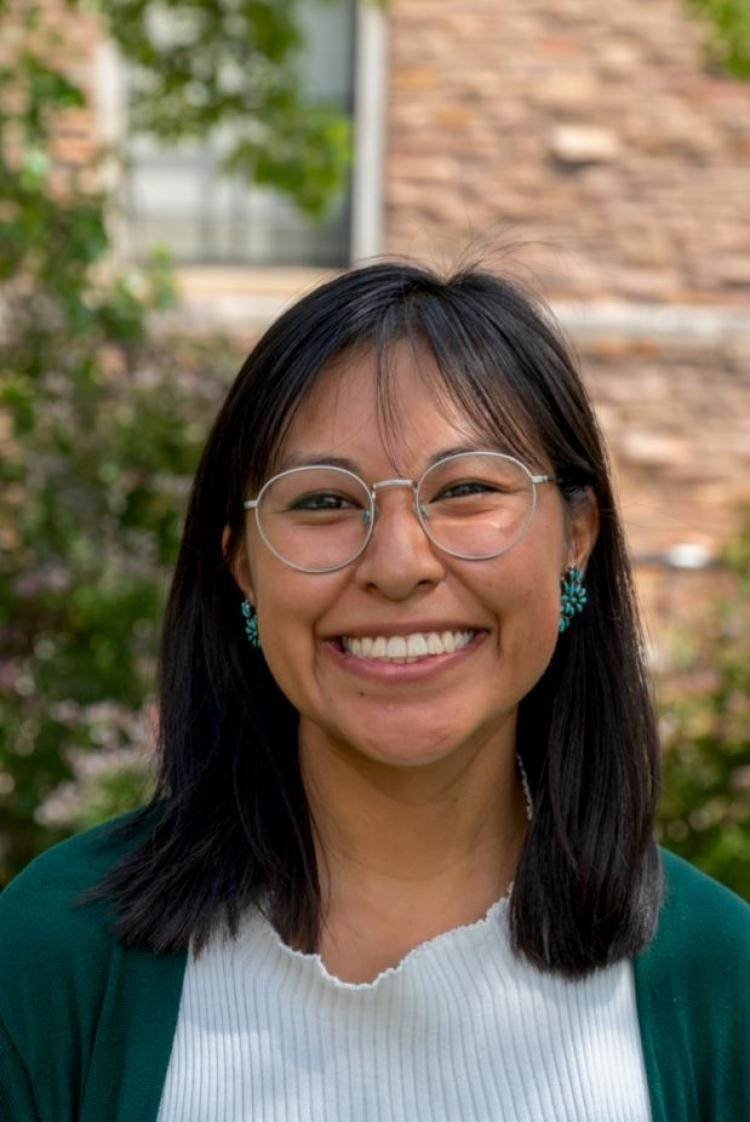face_no_mask: (242, 293, 582, 758)
